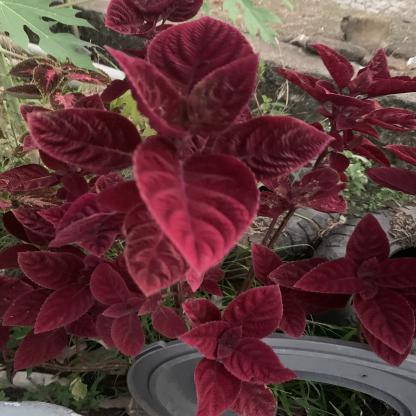Bunga Coleus: (29, 22, 403, 354)
